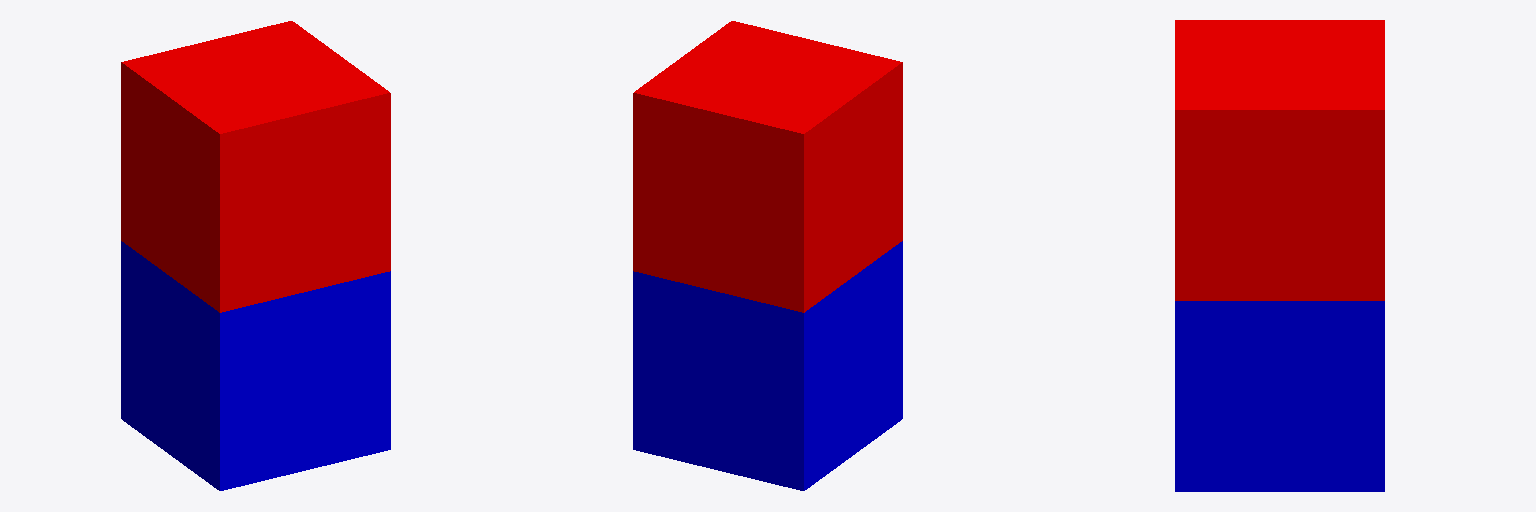
robot.urdf — simple_robot:
<?xml version="1.0"?>
<robot name="simple_robot">

  <!-- Link 1 -->
  <link name="link1">
    <visual>
      <geometry>
        <box size="1 1 1"/>
      </geometry>
      <material name="blue">
        <color rgba="0 0 1 1"/>
      </material>
    </visual>
  </link>

  <!-- Link 2 -->
  <link name="link2">
    <visual>
      <geometry>
        <box size="1 1 1"/>
      </geometry>
      <material name="red">
        <color rgba="1 0 0 1"/>
      </material>
    </visual>
  </link>

  <!-- Joint between Link 1 and Link 2 -->
  <joint name="joint1" type="revolute">
    <parent link="link1"/>
    <child link="link2"/>
    <origin xyz="0 0 1"/>
    <axis xyz="0 0 1"/>
    <limit effort="1.0" lower="-1.57" upper="1.57" velocity="1.0"/>
  </joint>

</robot>

--- What the picture shows (computed from the rendered views, not written in the file) ---
The picture shows the robot from 3 angles, left to right: view 1: azimuth 30°, elevation 25°; view 2: azimuth 150°, elevation 25°; view 3: azimuth 270°, elevation 25°; orthographic projection.
Model simple_robot with 2 links and 1 joints (1 revolute), rooted at link1, posed every joint at zero.
Links seen in each view (by area): view 1: link2, link1; view 2: link2, link1; view 3: link2, link1.
Link boxes in pixels (left/top/right/bottom): link2: left=121, top=21, right=390, bottom=312; link1: left=121, top=241, right=390, bottom=490; link2: left=633, top=21, right=902, bottom=312; link1: left=633, top=241, right=902, bottom=490; link2: left=1175, top=20, right=1384, bottom=300; link1: left=1175, top=301, right=1384, bottom=491.
Size in the robot's own frame: 1 by 1 by 2 metres.
Geometry: primitives only (box / cylinder / sphere), no mesh files.